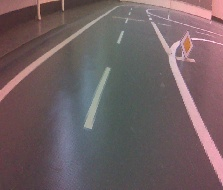priority road sign: (178, 29, 193, 58)
